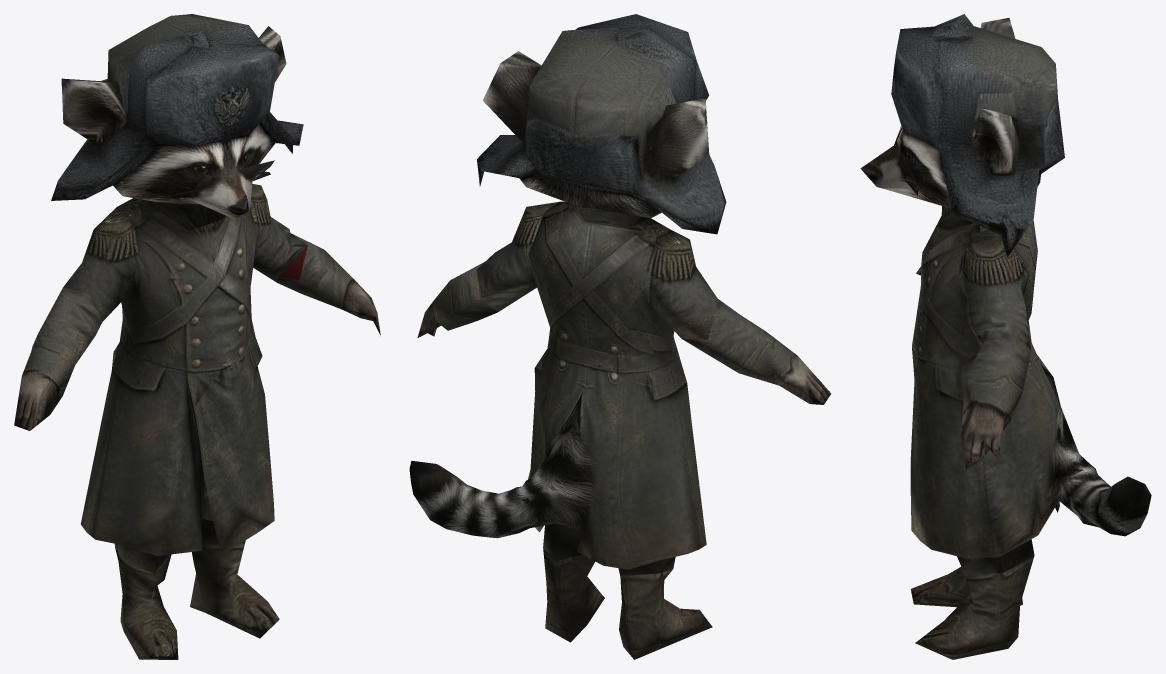
Rendered from infantry_base_gibs.glb.
3 views of the same model, side by side, from view 1: azimuth 30°, elevation 25°; view 2: azimuth 150°, elevation 25°; view 3: azimuth 270°, elevation 25° (orthographic).
Parts seen in each view (by area): view 1: Body.001, Hat.001, Head.001, Forarm.R.001, Leg.L.001, Arm.R.001, Leg.R.001, Forarm.L.001, Arm.L.001, Upleg.R.001; view 2: Body.001, Hat.001, Forarm.R.001, Arm.R.001, Leg.R.001, Leg.L.001, Arm.L.001, Head.001, Forarm.L.001, Upleg.L.001; view 3: Body.001, Hat.001, Leg.L.001, Arm.L.001, Forarm.L.001, Head.001, Leg.R.001, Upleg.L.001.
Boxes of the visible parts, bbox=[...] form: Body.001: bbox=[81, 198, 274, 555]; Hat.001: bbox=[51, 14, 303, 200]; Head.001: bbox=[113, 122, 275, 230]; Forarm.R.001: bbox=[14, 287, 102, 430]; Leg.L.001: bbox=[190, 543, 279, 638]; Arm.R.001: bbox=[63, 207, 137, 321]; Leg.R.001: bbox=[115, 548, 178, 659]; Forarm.L.001: bbox=[277, 233, 380, 335]; Arm.L.001: bbox=[250, 184, 307, 282]; Upleg.R.001: bbox=[114, 543, 168, 573]; Body.001: bbox=[409, 201, 706, 569]; Hat.001: bbox=[477, 14, 726, 234]; Forarm.R.001: bbox=[682, 299, 831, 404]; Arm.R.001: bbox=[648, 230, 717, 339]; Leg.R.001: bbox=[619, 569, 712, 659]; Leg.L.001: bbox=[543, 547, 604, 642]; Arm.L.001: bbox=[477, 201, 559, 311]; Head.001: bbox=[519, 172, 661, 228]; Forarm.L.001: bbox=[417, 262, 497, 337]; Upleg.L.001: bbox=[543, 523, 583, 560]; Body.001: bbox=[910, 216, 1151, 558]; Hat.001: bbox=[891, 14, 1064, 256]; Leg.L.001: bbox=[915, 556, 1034, 659]; Arm.L.001: bbox=[957, 236, 1031, 350]; Forarm.L.001: bbox=[961, 336, 1030, 469]; Head.001: bbox=[860, 126, 1040, 229]; Leg.R.001: bbox=[910, 567, 1022, 607]; Upleg.L.001: bbox=[957, 539, 1034, 575].
Bounding box in the file's own units: 0.6431 × 0.9786 × 0.4323.
Materials: 2 (1 with a texture image).
